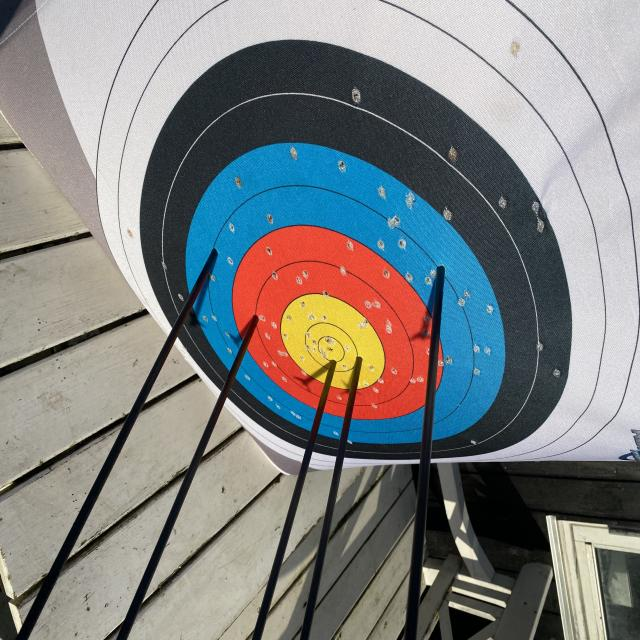Arrow_Blue: (420, 252, 463, 288), (206, 224, 228, 280)
Arrow_Red: (248, 304, 264, 352)
Arrow_Yellow: (349, 343, 379, 381), (324, 352, 343, 388)
